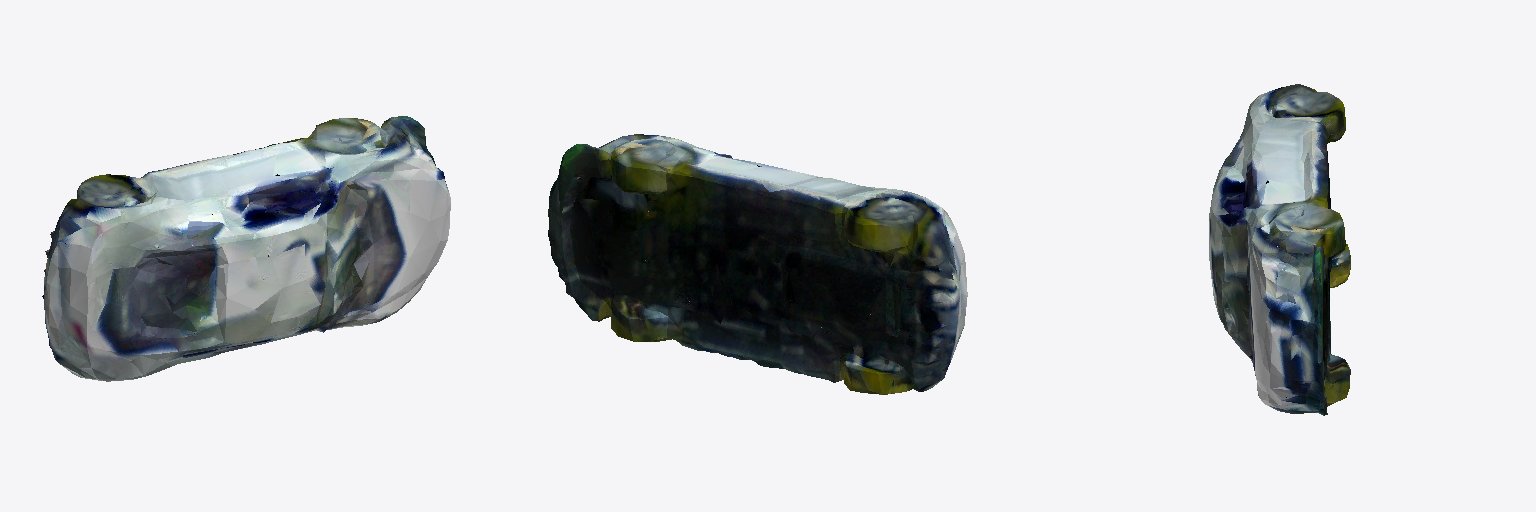
3 views of the same model, side by side, from view 1: azimuth 30°, elevation 25°; view 2: azimuth 150°, elevation 25°; view 3: azimuth 270°, elevation 25° (orthographic).
Size of the model in its own units: 89.52 by 38.5 by 27.39.
Materials: 1 (1 with a texture image).